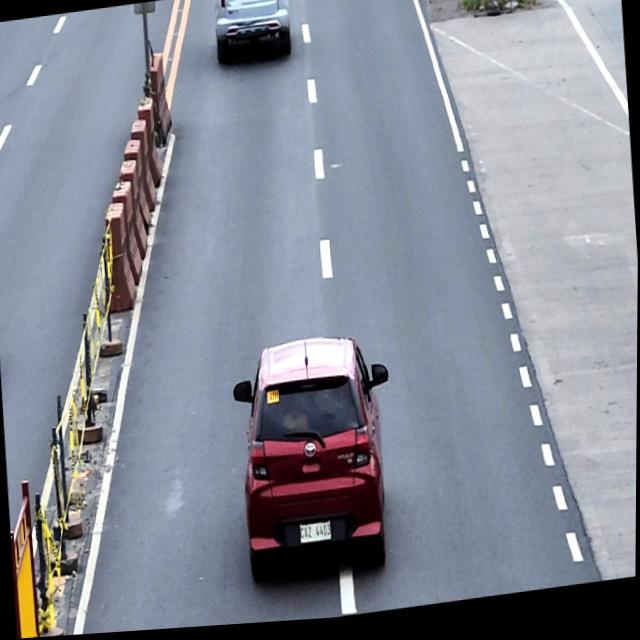Car: (228, 329, 405, 596), (209, 0, 293, 74)
License-Plate: (298, 523, 333, 549), (238, 0, 259, 3)
